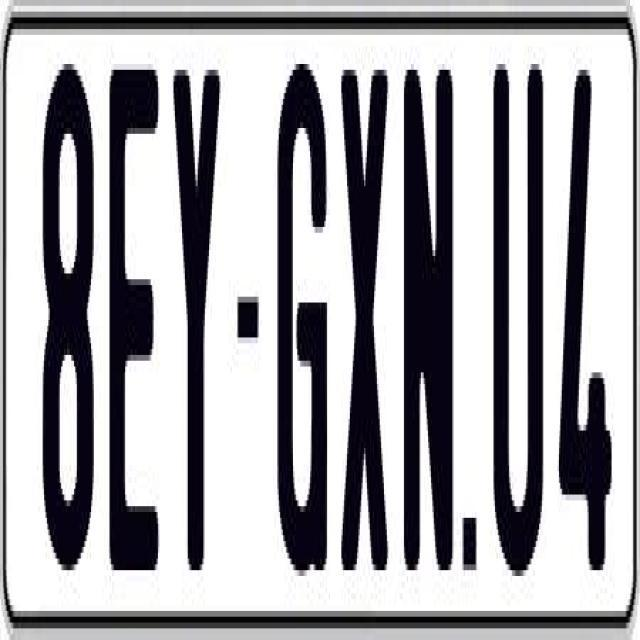4: (556, 64, 614, 576)
8: (42, 52, 98, 594)
E: (110, 58, 160, 588)
G: (274, 52, 328, 594)
N: (404, 52, 455, 558)
U: (494, 52, 546, 594)
X: (342, 63, 396, 600)
Y: (172, 58, 222, 582)
